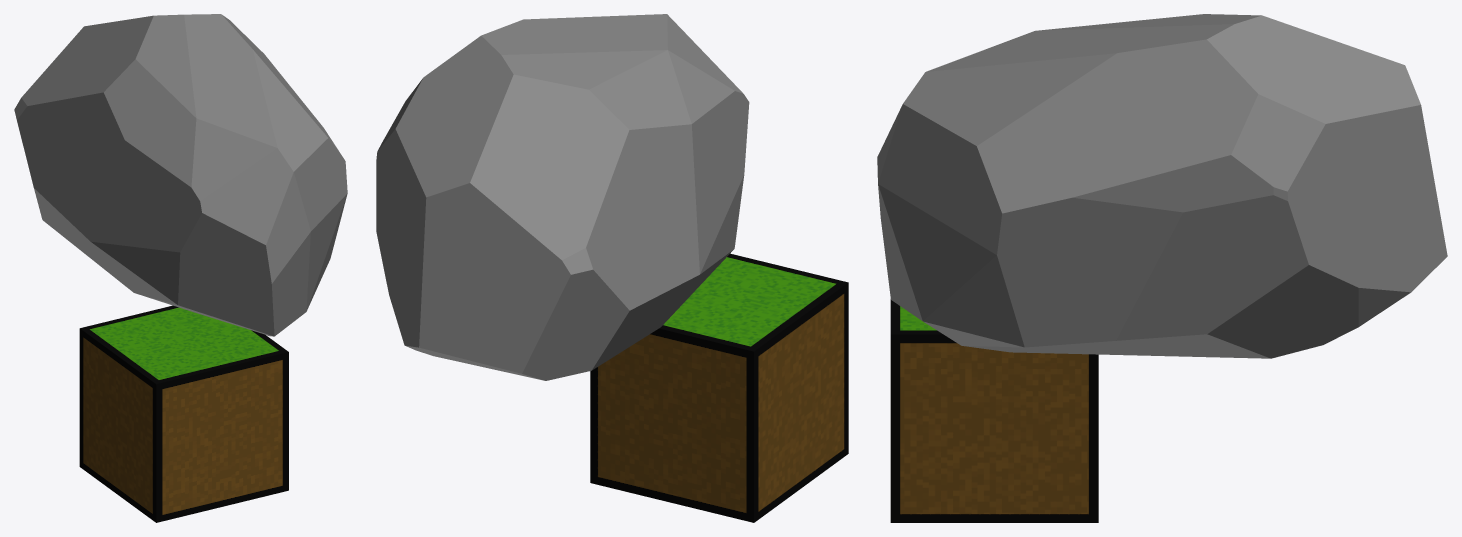
The model's file is BigRockCutNorthFacing.glb.
3 views of the same model, side by side, from view 1: azimuth 30°, elevation 25°; view 2: azimuth 150°, elevation 25°; view 3: azimuth 270°, elevation 25° (orthographic). The views are drawn at different scales.
Visible parts, largest first — view 1: Sphere, Grass_v2Baked; view 2: Sphere, Grass_v2Baked; view 3: Sphere, Grass_v2Baked.
Boxes of the visible parts, left/top/right/bottom form: Sphere: left=14, top=14, right=347, bottom=336; Grass_v2Baked: left=79, top=305, right=288, bottom=522; Sphere: left=376, top=14, right=749, bottom=380; Grass_v2Baked: left=590, top=253, right=848, bottom=522; Sphere: left=877, top=14, right=1447, bottom=358; Grass_v2Baked: left=890, top=299, right=1098, bottom=522.
Bounding box in the file's own units: 1.75 × 2.68 × 2.69.
2 materials, 1 textured.
